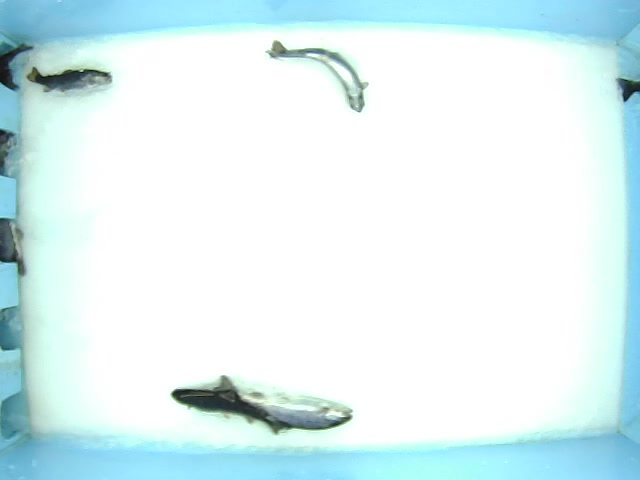fish: (214, 375, 353, 436), (264, 37, 371, 113), (170, 374, 290, 436), (26, 64, 115, 95)
